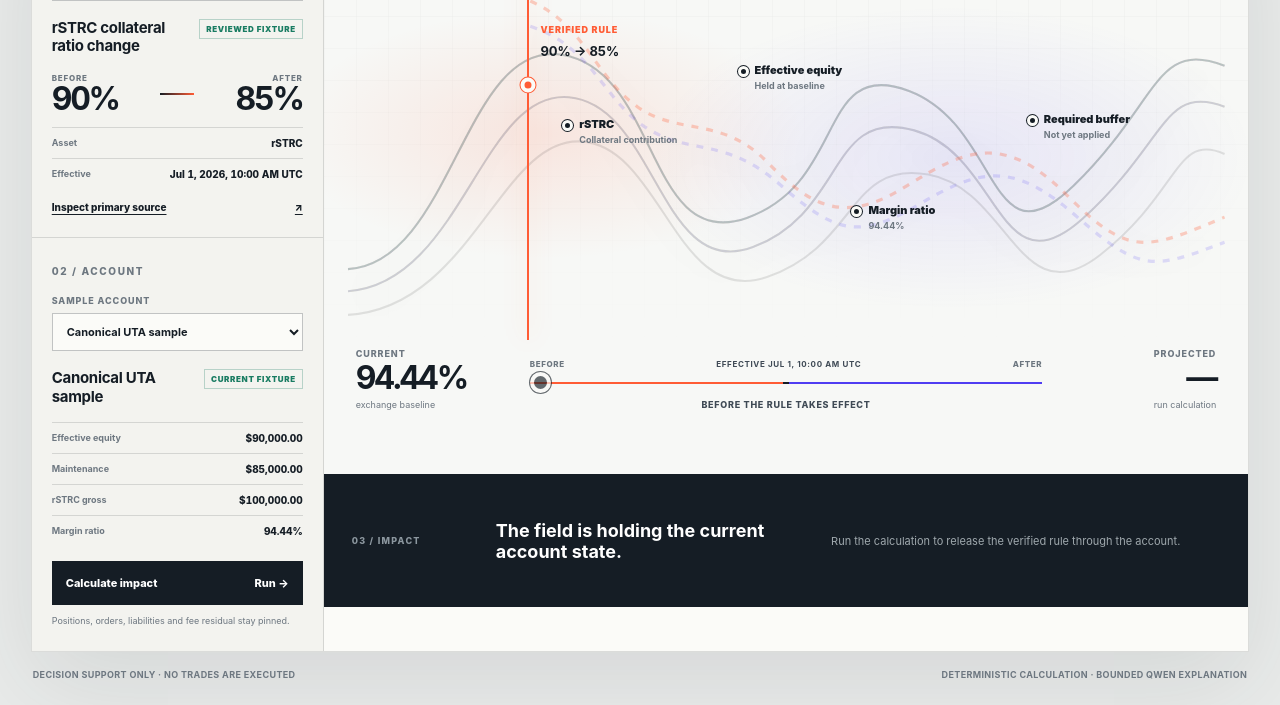
Test: sample-mode risk desk › lets the user scrub across the effective-time threshold after calculation
(page scrolled)
Expected: the slider named "effective-time view" holds "0", [530,372,1042,394]
Expected: the text "Before the rule takes effect" is shown, [701,399,871,410]
Click the button "Calculate impact Run →" at (177, 583), box [52,561,303,605]
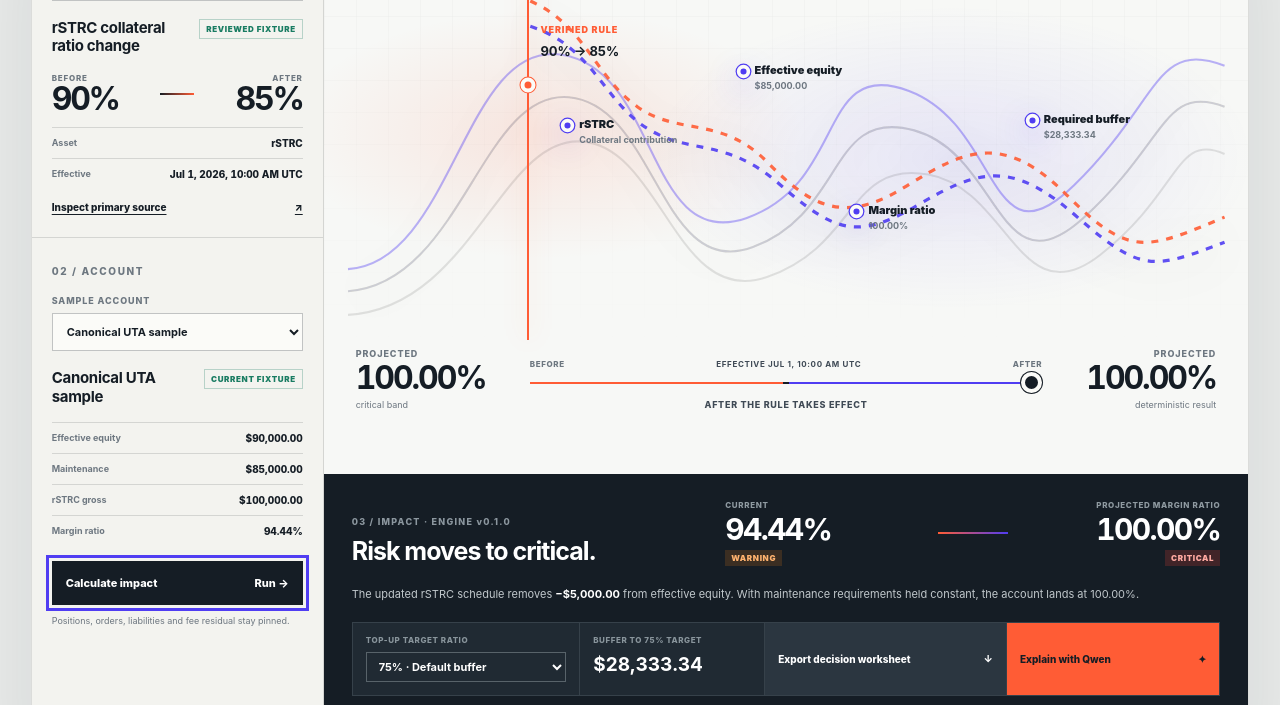
Now the slider named "effective-time view" holds "100"
Now the text "After the rule takes effect" is shown, box [704,399,868,410]
Set the slider named "effective-time view" to "0" at (538, 383), box [530,372,1042,394]
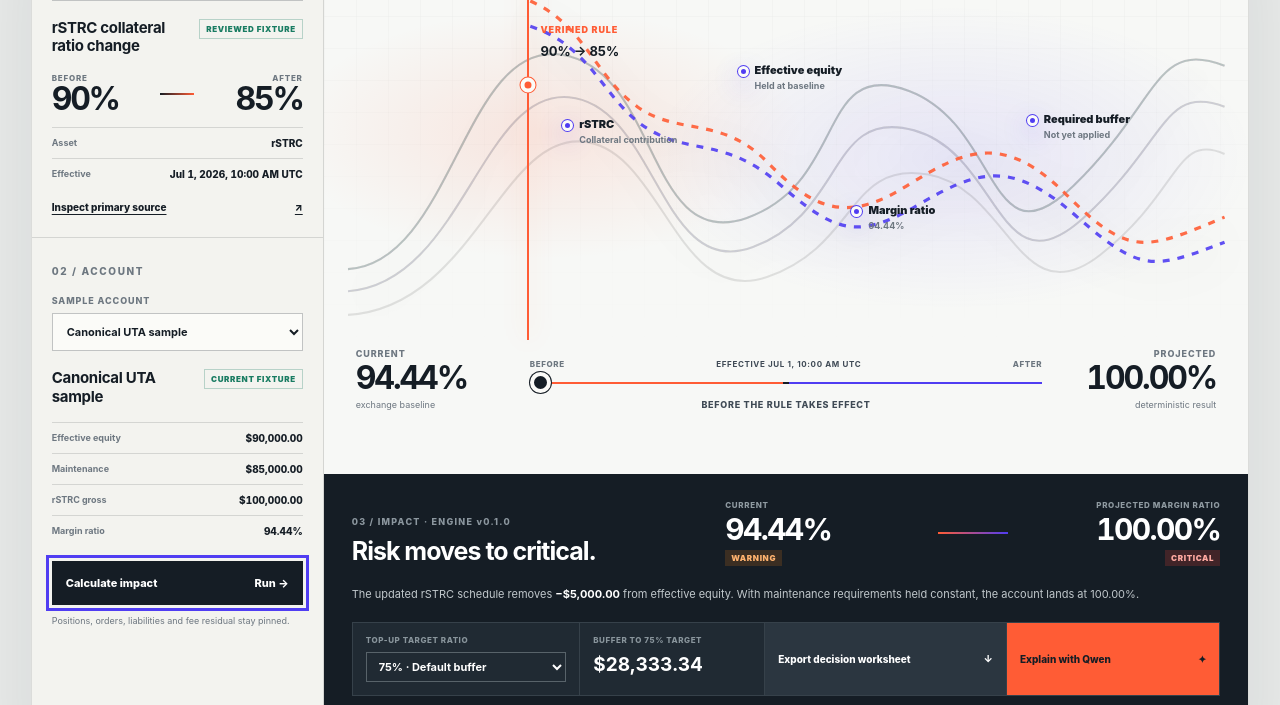
Now the text "Before the rule takes effect" is shown, box [701,399,871,410]
